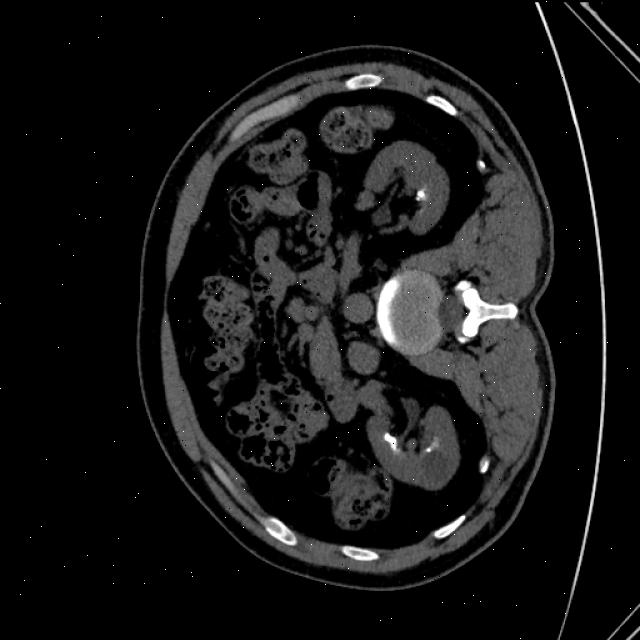kidneystone: (384, 431, 398, 450), (416, 189, 426, 200)
